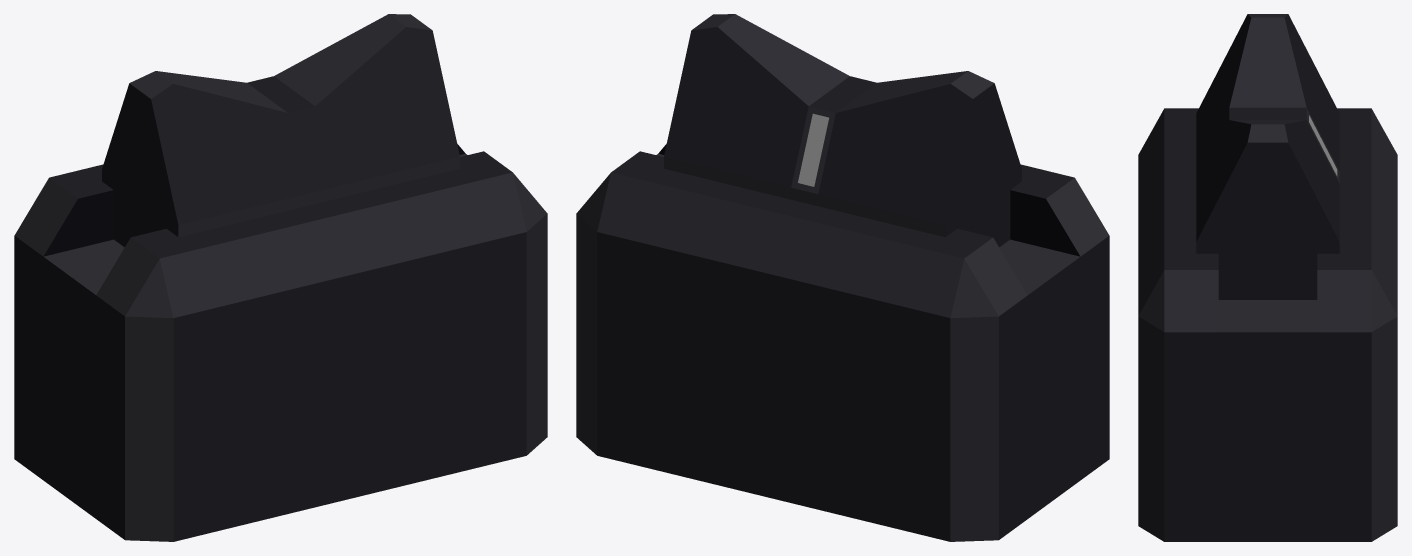
File: MW1_IronSight_Rear_Welded_01.fbx
The picture shows the model from 3 angles, left to right: view 1: azimuth 30°, elevation 25°; view 2: azimuth 150°, elevation 25°; view 3: azimuth 270°, elevation 25°; orthographic projection. The views are drawn at different scales.
Visible parts, largest first — view 1: IronSight_Rear_Welded_01; view 2: IronSight_Rear_Welded_01; view 3: IronSight_Rear_Welded_01.
Part boxes in pixels (box(x1,y1,x2,y2)): IronSight_Rear_Welded_01: box(14, 14, 547, 541); IronSight_Rear_Welded_01: box(576, 14, 1109, 541); IronSight_Rear_Welded_01: box(1138, 14, 1397, 541).
Size of the model in its own units: 1.59 by 1.43 by 0.9.
